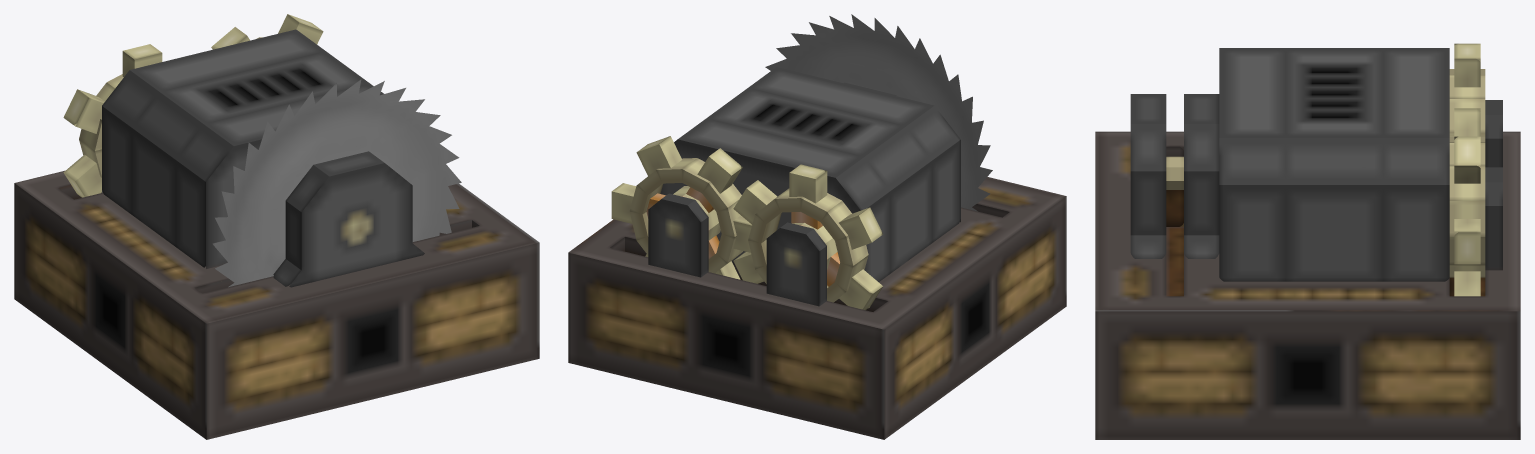
File: sawmill.obj
3 views of the same model, side by side, from view 1: azimuth 30°, elevation 25°; view 2: azimuth 150°, elevation 25°; view 3: azimuth 270°, elevation 25° (orthographic). The views are drawn at different scales.
Visible parts, largest first — view 1: Main, Blade, GearRight, GearLeft; view 2: Main, Blade, GearRight, GearLeft; view 3: Main, GearLeft, GearRight, Blade.
Part boxes in pixels (bbox=[...]): Main: bbox=[14, 29, 539, 439]; Blade: bbox=[212, 79, 461, 287]; GearRight: bbox=[63, 44, 162, 197]; GearLeft: bbox=[211, 14, 323, 49]; Main: bbox=[568, 67, 1066, 439]; Blade: bbox=[765, 14, 992, 211]; GearRight: bbox=[733, 164, 883, 310]; GearLeft: bbox=[611, 136, 751, 279]; Main: bbox=[1095, 48, 1520, 439]; GearLeft: bbox=[1449, 108, 1485, 296]; GearRight: bbox=[1449, 43, 1485, 136]; Blade: bbox=[1166, 156, 1183, 189].
Bounding box in the file's own units: 3 × 2.5 × 3.
